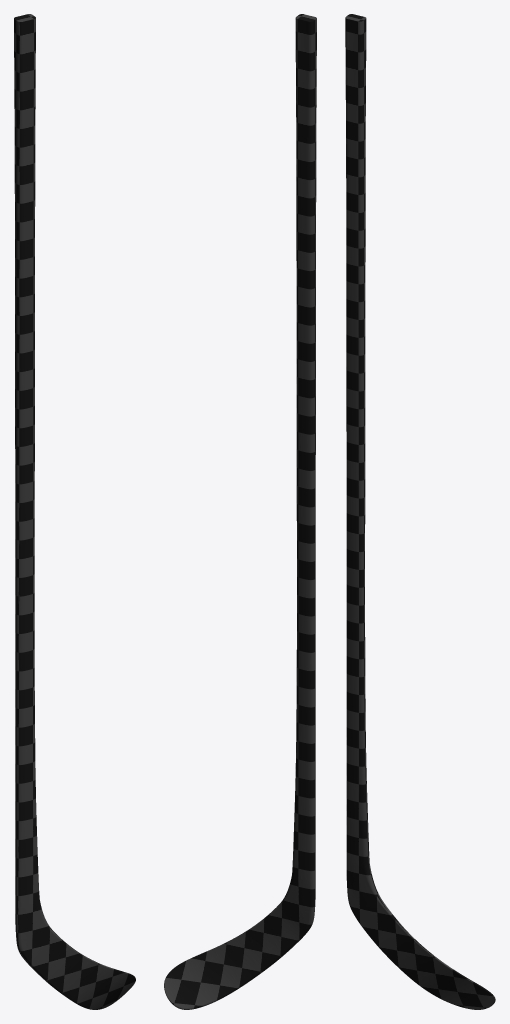
Rendered from P37-SBO.glb.
3 renders of one model, left to right at view 1: azimuth 30°, elevation 25°; view 2: azimuth 150°, elevation 25°; view 3: azimuth 330°, elevation 25°, orthographic. The views are drawn at different scales.
Parts seen in each view (by area): view 1: geometry_0; view 2: geometry_0; view 3: geometry_0.
Part boxes in pixels (<box>): geometry_0: <box>14,14,135,1009</box>; geometry_0: <box>164,14,316,1009</box>; geometry_0: <box>345,14,495,1009</box>.
Size of the model in its own units: 229 by 1650 by 77.45.
Materials: 1 (1 with a texture image).
